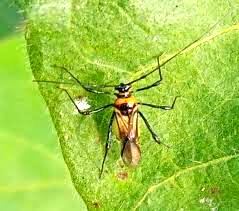Helopeltis-insect: (95, 81, 161, 167)
